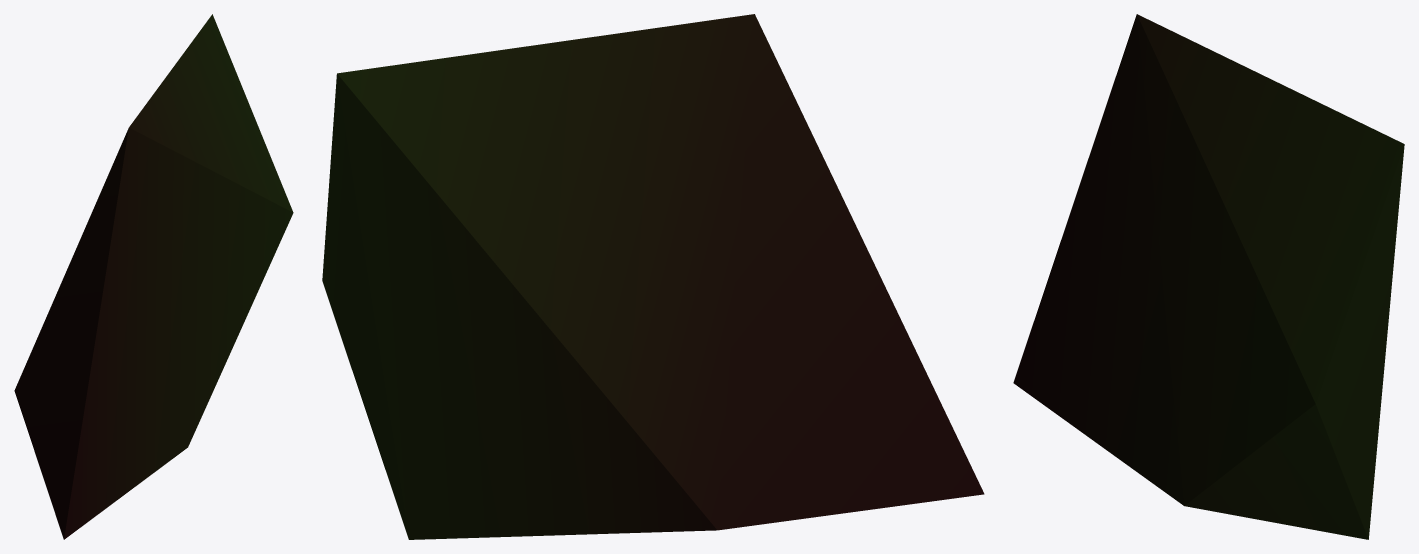
Rendered from tf_talus_chunk_7_lod1.glb.
The picture shows the model from 3 angles, left to right: view 1: azimuth 30°, elevation 25°; view 2: azimuth 150°, elevation 25°; view 3: azimuth 270°, elevation 25°; orthographic projection. The views are drawn at different scales.
Visible parts, largest first — view 1: tf_talus_chunk_7_lod1; view 2: tf_talus_chunk_7_lod1; view 3: tf_talus_chunk_7_lod1.
Boxes of the visible parts, left/top/right/bottom form: tf_talus_chunk_7_lod1: left=14, top=14, right=293, bottom=539; tf_talus_chunk_7_lod1: left=322, top=14, right=984, bottom=539; tf_talus_chunk_7_lod1: left=1013, top=14, right=1404, bottom=539.
Size of the model in its own units: 0.9488 by 0.9147 by 0.7303.
